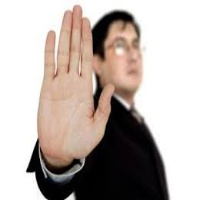ring: (55, 8, 72, 80)
